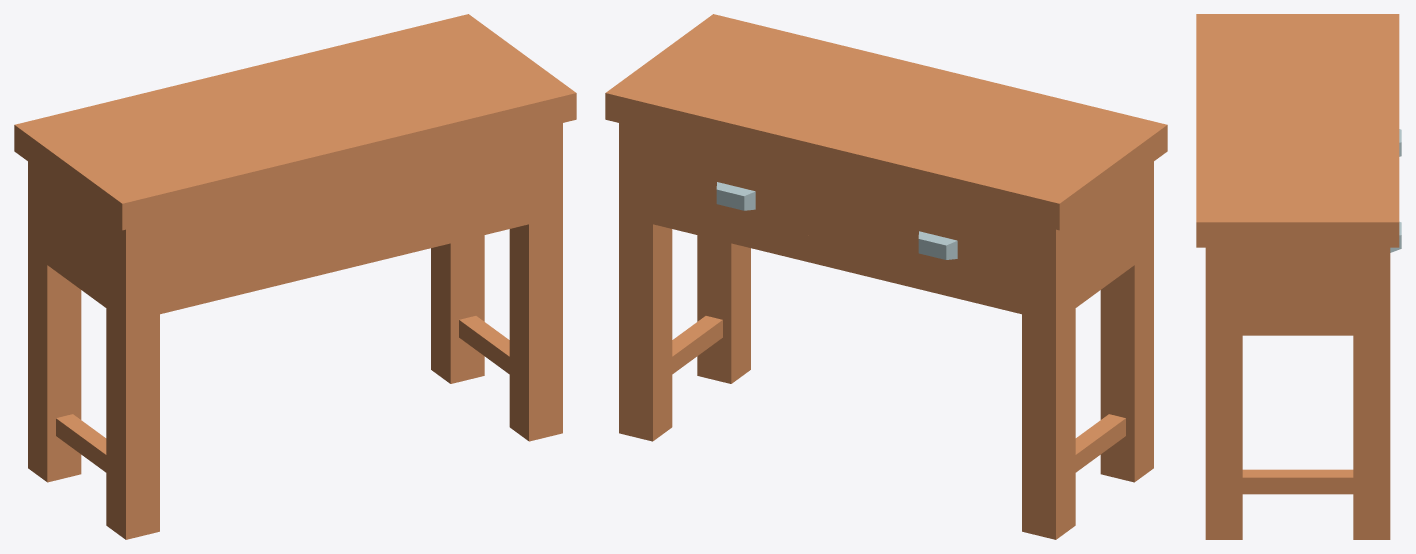
The model's file is sideTableDrawers.fbx.
3 renders of one model, left to right at view 1: azimuth 30°, elevation 25°; view 2: azimuth 150°, elevation 25°; view 3: azimuth 270°, elevation 25°, orthographic. The views are drawn at different scales.
Visible parts, largest first — view 1: sideTableDrawers; view 2: sideTableDrawers, drawerRight, drawerLeft; view 3: sideTableDrawers.
Part boxes in pixels (bbox=[...]): sideTableDrawers: bbox=[14, 14, 576, 539]; sideTableDrawers: bbox=[605, 14, 1167, 539]; drawerRight: bbox=[854, 202, 1021, 287]; drawerLeft: bbox=[653, 153, 819, 238]; sideTableDrawers: bbox=[1196, 14, 1399, 539].
Size of the model in its own units: 5.34 by 3.84 by 2.22.
